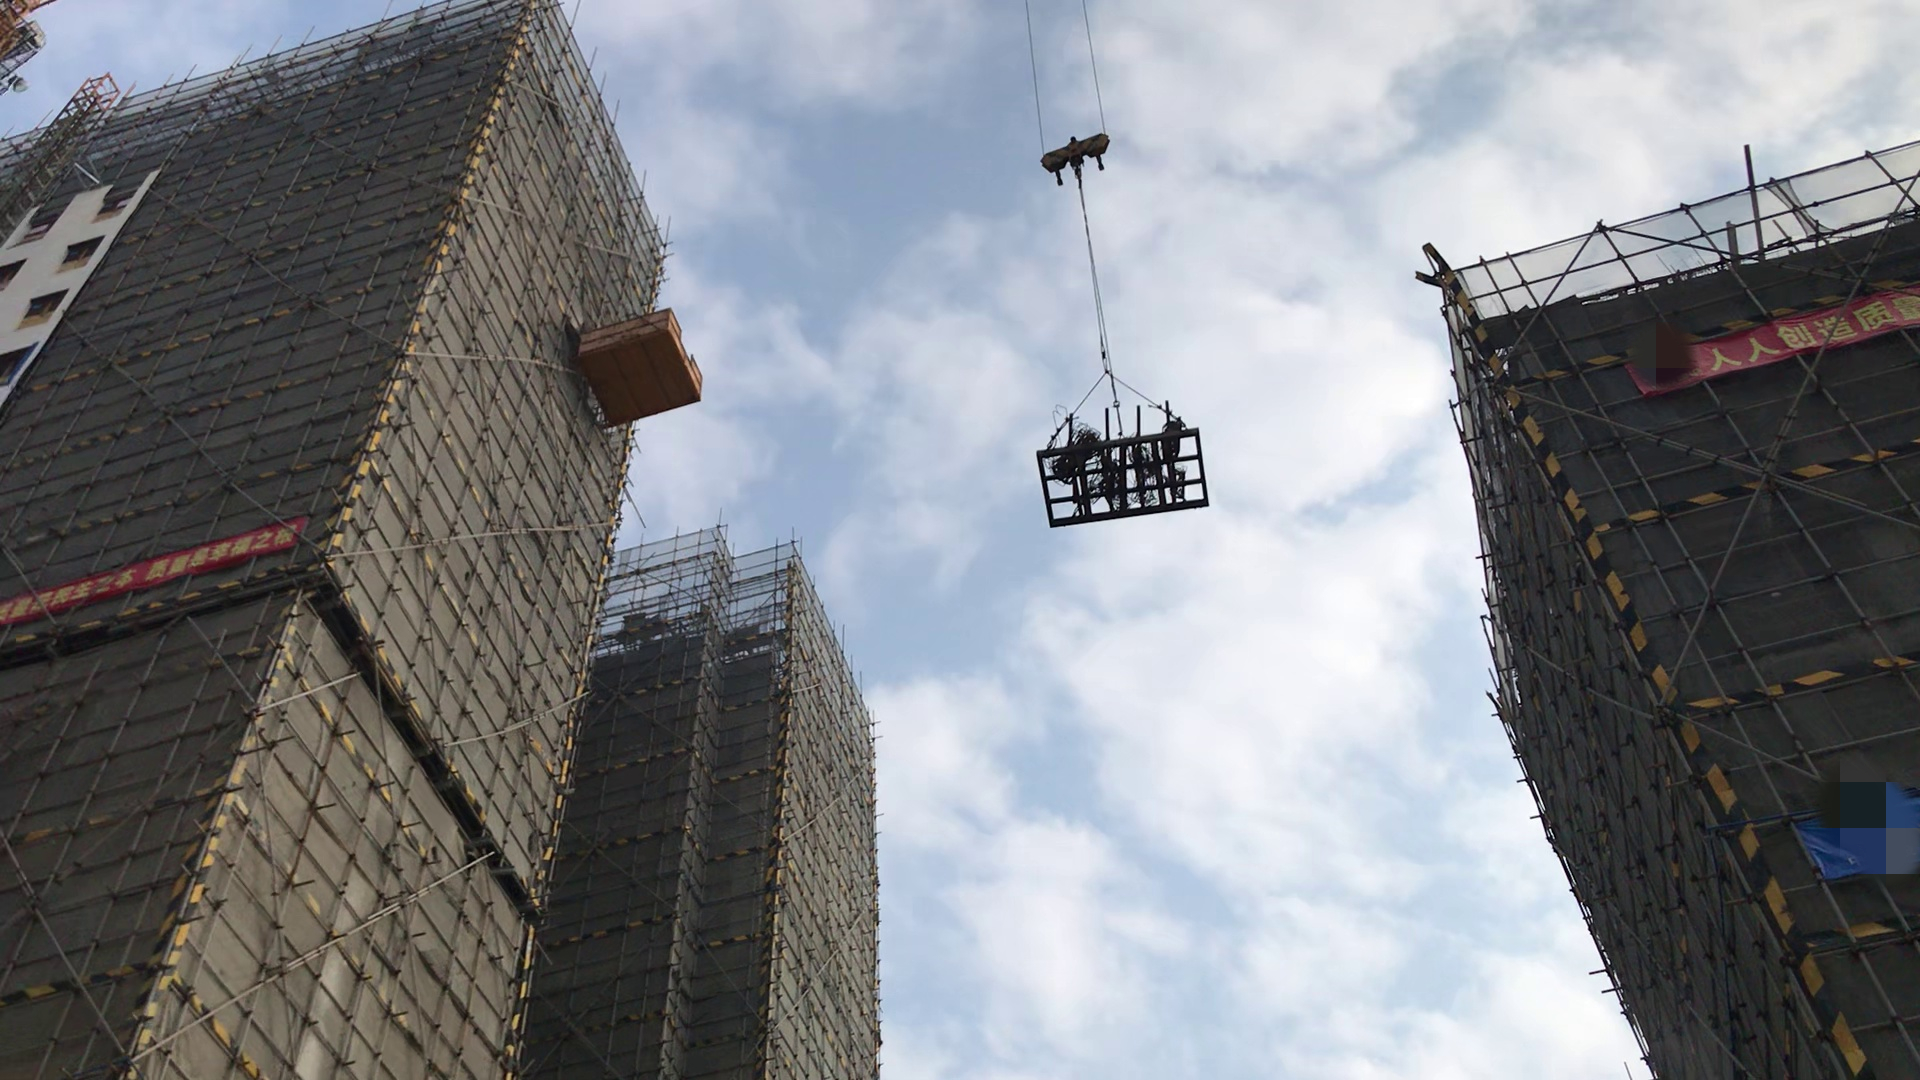hook: (1035, 125, 1129, 195)
slogan: (1, 504, 313, 621), (1651, 273, 1920, 388)
